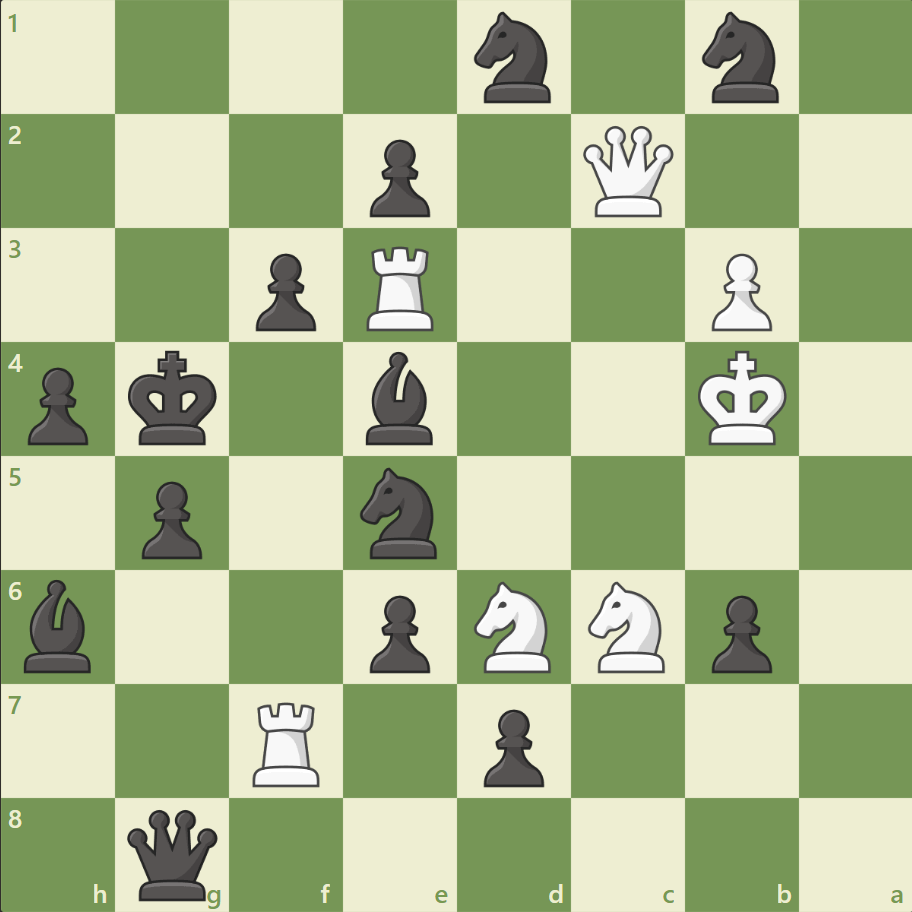K: (692, 344, 792, 452)
N: (579, 575, 676, 677), (465, 575, 562, 677)
P: (701, 246, 776, 337)
Q: (578, 122, 677, 222)
R: (246, 693, 329, 790), (360, 239, 442, 336)
b: (17, 574, 101, 676), (358, 347, 442, 449)
k: (124, 344, 224, 452)
n: (351, 461, 449, 564), (692, 7, 789, 110), (465, 7, 562, 110)
p: (474, 700, 549, 791), (701, 586, 776, 677), (133, 473, 208, 564), (20, 359, 95, 450), (247, 246, 322, 337), (361, 586, 435, 677), (361, 132, 435, 223)
q: (124, 804, 223, 903)
